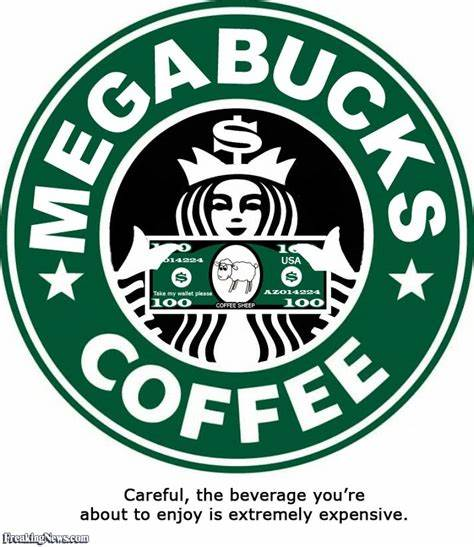starbucks Fake: (1, 5, 474, 476)
